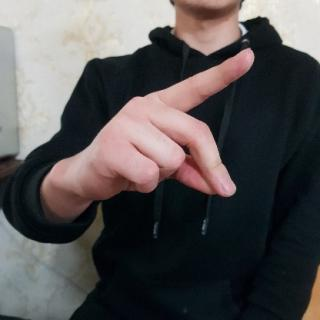TAA: (72, 46, 262, 210)
